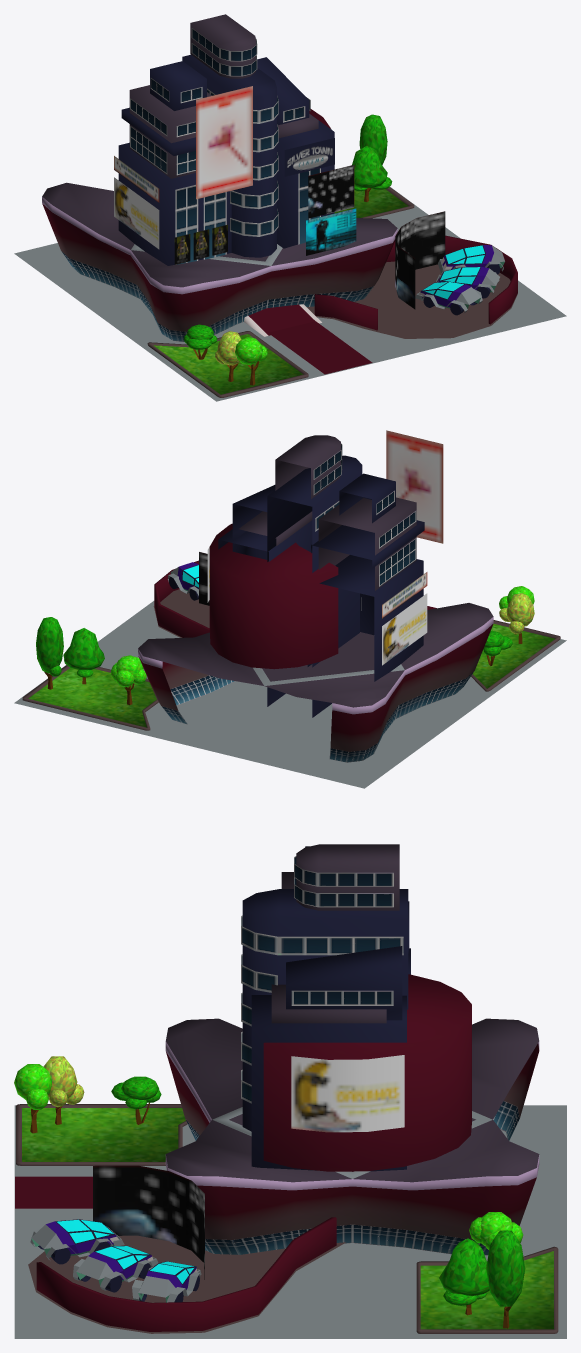
Rendered from cinema_LV2.fbx.
The picture shows the model from 3 angles, top to bottom: view 1: azimuth 30°, elevation 25°; view 2: azimuth 150°, elevation 25°; view 3: azimuth 270°, elevation 25°; orthographic projection. The views are drawn at different scales.
Visible parts, largest first — view 1: Cinema_Lv2.001; view 2: Cinema_Lv2.001; view 3: Cinema_Lv2.001.
Part boxes in pixels (x1,y1,x2,y2): Cinema_Lv2.001: (14,14,566,401); Cinema_Lv2.001: (14,430,566,788); Cinema_Lv2.001: (14,844,566,1338).
Bounding box in the file's own units: 120 × 81.12 × 120.
